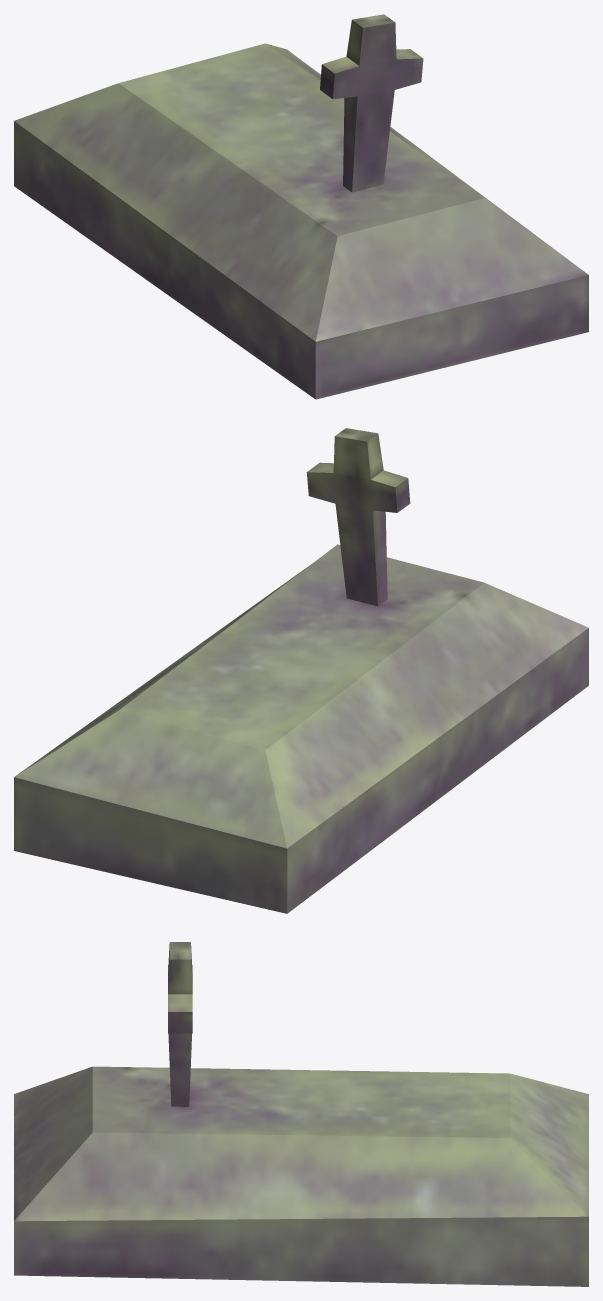
Rendered from BigTomb_Top.fbx.
3 renders of one model, top to bottom at view 1: azimuth 30°, elevation 25°; view 2: azimuth 150°, elevation 25°; view 3: azimuth 270°, elevation 25°, orthographic. The views are drawn at different scales.
Parts seen in each view (by area): view 1: BigTomb_Top; view 2: BigTomb_Top; view 3: BigTomb_Top.
Part boxes in pixels (x1,y1,x2,y2): BigTomb_Top: (14,14,588,399); BigTomb_Top: (14,428,588,913); BigTomb_Top: (14,942,588,1286).
Size of the model in its own units: 11.12 by 11.34 by 21.26.
